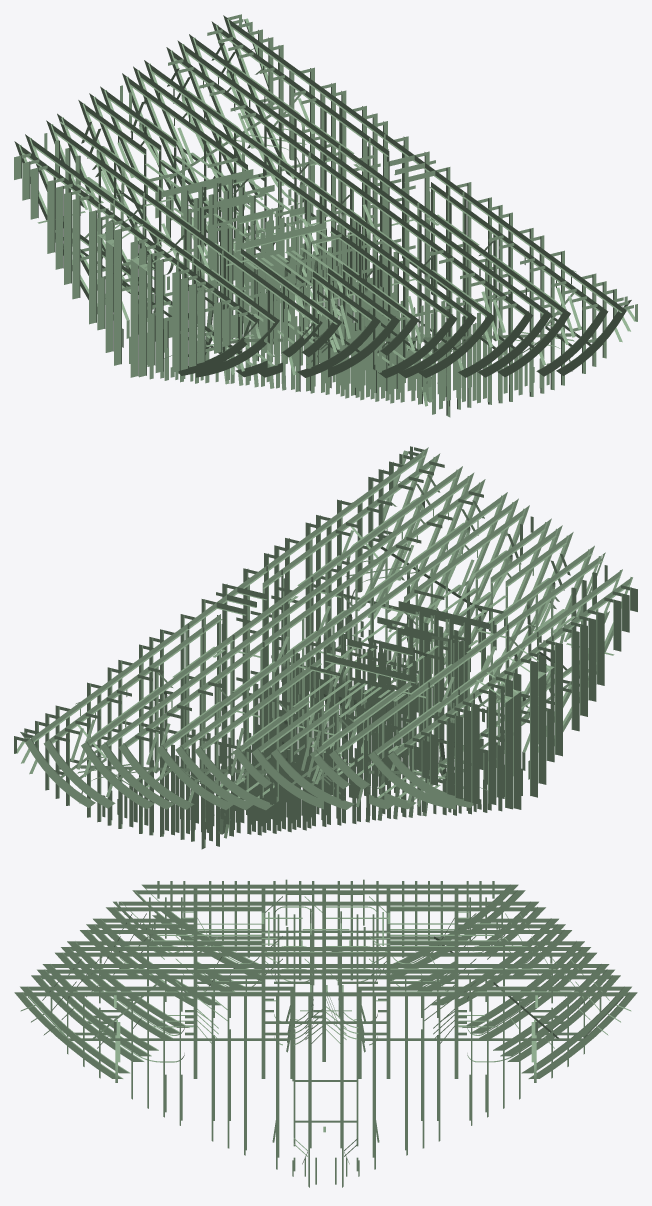
Rendered from AFT_PEAK_TK.glb.
3 views of the same model, one above another, from view 1: azimuth 30°, elevation 25°; view 2: azimuth 150°, elevation 25°; view 3: azimuth 270°, elevation 25° (orthographic). The views are drawn at different scales.
Visible parts, largest first — view 1: ST_OuterShellxAPTSxWeb_055001-TW_345x10+125x21_NVA_1993, ST_TankTopxAPTPxWeb_012001-IA_250x90x10x15_NVA_1993, ST_TankTopxAPTSxWeb_026001-IA_250x90x10x15_NVA_1993, ST_TankTopxAPTSxWeb_030001-IA_300x89x10x16_NVA_1993, ST_OuterShellxAPTSxWeb_061002-TW_345x10+125x21_NVA_1993, ST_TankTopxAPTPxWeb_033001-IA_300x89x10x16_NVA_1993, ST_TankTopxAPTPxWeb_031001-IA_250x90x10x15_NVA_1993, ST_TankTopxAPTSxWeb_002001-IA_250x90x10x15_NVA_1993, ST_OuterShellxAPTSxWeb_049002-TW_345x10+125x21_NVA_1993, ST_OuterShellxAPTSxWeb_051002-TW_345x10+125x21_NVA_1993, ST_TankTopxAPTPxWeb_005001-IA_250x90x10x15_NVA_1993, ST_OuterShellxAPTSxWeb_058002-TW_345x10+125x21_NVA_1993 (+5 smaller); view 2: ST_OuterShellxAPTPxWeb_050001-TW_345x10+125x21_NVA_1993, ST_TankTopxAPTSxWeb_026001-IA_250x90x10x15_NVA_1993, ST_TankTopxAPTPxWeb_012001-IA_250x90x10x15_NVA_1993, ST_TankTopxAPTPxWeb_033001-IA_300x89x10x16_NVA_1993, ST_OuterShellxAPTPxWeb_061002-TW_345x10+125x21_NVA_1993, ST_TankTopxAPTSxWeb_030001-IA_300x89x10x16_NVA_1993, ST_TankTopxAPTSxWeb_002001-IA_250x90x10x15_NVA_1993, ST_TankTopxAPTPxWeb_031001-IA_250x90x10x15_NVA_1993, ST_OuterShellxAPTPxWeb_058002-TW_345x10+125x21_NVA_1993, ST_OuterShellxAPTPxWeb_049002-TW_345x10+125x21_NVA_1993, ST_TankTopxAPTSxWeb_017001-IA_250x90x10x15_NVA_1993, ST_OuterShellxAPTPxWeb_052002-TW_345x10+125x21_NVA_1993 (+5 smaller); view 3: ST_TankTopxAPTSxWeb_026001-IA_250x90x10x15_NVA_1993, ST_TankTopxAPTPxWeb_012001-IA_250x90x10x15_NVA_1993, ST_TankTopxAPTPxWeb_028001-IA_250x90x10x15_NVA_1993, ST_TankTopxAPTSxWeb_013001-IA_250x90x10x15_NVA_1993, ST_OuterShellxAPTPxWeb_050001-TW_345x10+125x21_NVA_1993, ST_OuterShellxAPTSxWeb_055001-TW_345x10+125x21_NVA_1993, ST_TankTopxAPTPxWeb_031001-IA_250x90x10x15_NVA_1993, ST_TankTopxAPTSxWeb_002001-IA_250x90x10x15_NVA_1993, ST_TankTopxAPTPxWeb_005001-IA_250x90x10x15_NVA_1993, ST_TankTopxAPTSxWeb_017001-IA_250x90x10x15_NVA_1993, ST_TankTopxAPTPxWeb_032001-IA_250x90x10x15_NVA_1993, ST_TankTopxAPTSxWeb_024001-IA_250x90x10x15_NVA_1993 (+32 smaller).
Part boxes in pixels (x1,y1,x2,y2): ST_OuterShellxAPTSxWeb_055001-TW_345x10+125x21_NVA_1993: (556, 307, 626, 375); ST_TankTopxAPTPxWeb_012001-IA_250x90x10x15_NVA_1993: (228, 19, 341, 106); ST_TankTopxAPTSxWeb_026001-IA_250x90x10x15_NVA_1993: (508, 224, 620, 309); ST_TankTopxAPTSxWeb_030001-IA_300x89x10x16_NVA_1993: (236, 222, 326, 250); ST_OuterShellxAPTSxWeb_061002-TW_345x10+125x21_NVA_1993: (297, 337, 364, 377); ST_TankTopxAPTPxWeb_033001-IA_300x89x10x16_NVA_1993: (163, 169, 253, 197); ST_TankTopxAPTPxWeb_031001-IA_250x90x10x15_NVA_1993: (194, 38, 296, 117); ST_TankTopxAPTSxWeb_002001-IA_250x90x10x15_NVA_1993: (463, 235, 565, 312); ST_OuterShellxAPTSxWeb_049002-TW_345x10+125x21_NVA_1993: (378, 335, 441, 378); ST_OuterShellxAPTSxWeb_051002-TW_345x10+125x21_NVA_1993: (418, 334, 479, 377); ST_TankTopxAPTPxWeb_005001-IA_250x90x10x15_NVA_1993: (183, 44, 281, 121); ST_OuterShellxAPTSxWeb_058002-TW_345x10+125x21_NVA_1993: (399, 335, 460, 378); ST_OuterShellxAPTPxWeb_050001-TW_345x10+125x21_NVA_1993: (25, 739, 95, 807); ST_TankTopxAPTSxWeb_026001-IA_250x90x10x15_NVA_1993: (310, 451, 424, 538); ST_TankTopxAPTPxWeb_012001-IA_250x90x10x15_NVA_1993: (31, 656, 143, 741); ST_TankTopxAPTPxWeb_033001-IA_300x89x10x16_NVA_1993: (325, 654, 415, 682); ST_OuterShellxAPTPxWeb_061002-TW_345x10+125x21_NVA_1993: (287, 769, 354, 809); ST_TankTopxAPTSxWeb_030001-IA_300x89x10x16_NVA_1993: (398, 601, 488, 629); ST_TankTopxAPTSxWeb_002001-IA_250x90x10x15_NVA_1993: (355, 470, 457, 549); ST_TankTopxAPTPxWeb_031001-IA_250x90x10x15_NVA_1993: (86, 667, 188, 744); ST_OuterShellxAPTPxWeb_058002-TW_345x10+125x21_NVA_1993: (210, 767, 273, 810); ST_OuterShellxAPTPxWeb_049002-TW_345x10+125x21_NVA_1993: (172, 766, 233, 809); ST_TankTopxAPTSxWeb_017001-IA_250x90x10x15_NVA_1993: (370, 476, 468, 553); ST_OuterShellxAPTPxWeb_052002-TW_345x10+125x21_NVA_1993: (191, 767, 252, 810); ST_TankTopxAPTSxWeb_026001-IA_250x90x10x15_NVA_1993: (21, 992, 197, 996); ST_TankTopxAPTPxWeb_012001-IA_250x90x10x15_NVA_1993: (454, 992, 629, 996); ST_TankTopxAPTPxWeb_028001-IA_250x90x10x15_NVA_1993: (454, 986, 623, 990); ST_TankTopxAPTSxWeb_013001-IA_250x90x10x15_NVA_1993: (28, 986, 197, 990); ST_OuterShellxAPTPxWeb_050001-TW_345x10+125x21_NVA_1993: (530, 992, 637, 1078); ST_OuterShellxAPTSxWeb_055001-TW_345x10+125x21_NVA_1993: (14, 992, 121, 1078); ST_TankTopxAPTPxWeb_031001-IA_250x90x10x15_NVA_1993: (454, 975, 612, 979); ST_TankTopxAPTSxWeb_002001-IA_250x90x10x15_NVA_1993: (39, 975, 197, 979); ST_TankTopxAPTPxWeb_005001-IA_250x90x10x15_NVA_1993: (454, 969, 606, 973); ST_TankTopxAPTSxWeb_017001-IA_250x90x10x15_NVA_1993: (45, 969, 197, 973); ST_TankTopxAPTPxWeb_032001-IA_250x90x10x15_NVA_1993: (454, 952, 588, 956); ST_TankTopxAPTSxWeb_024001-IA_250x90x10x15_NVA_1993: (63, 952, 197, 956).
Bounding box in the file's own units: 15.85 × 11.97 × 34.89.
